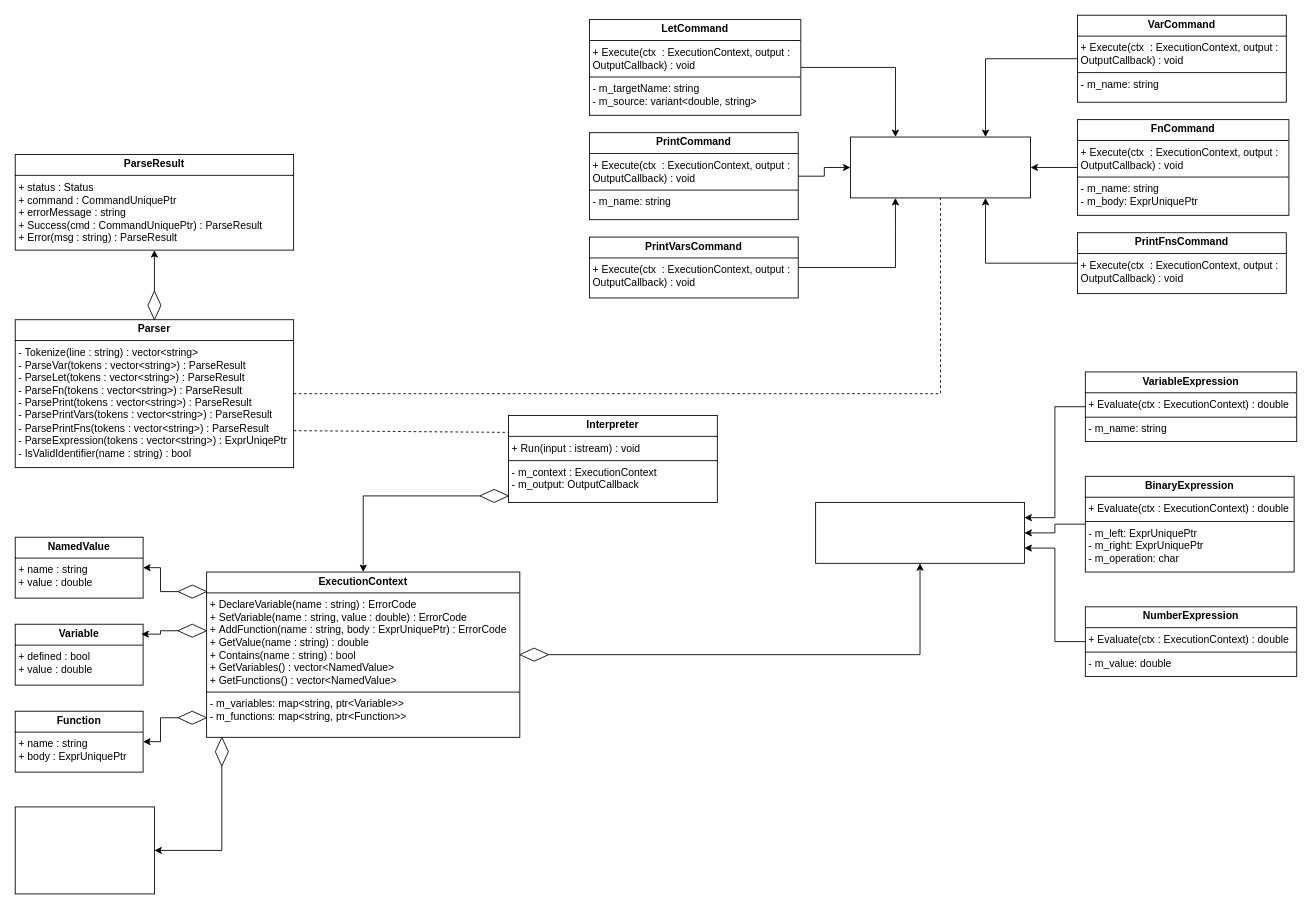
This 1312x909 diagram has some shape labels left out. Each missing label, with the centre of its shape:
enum ErrorCode Ok NameAlreadyExists NameDoesNotExist IsFunctionName: point (84, 850)
Expression + Evaluate(ctx : ExecutionContext) : double: point (919, 532)
ICommand + Execute(ctx : ExecutionContext, output : OutputCallback) : void: point (940, 167)
